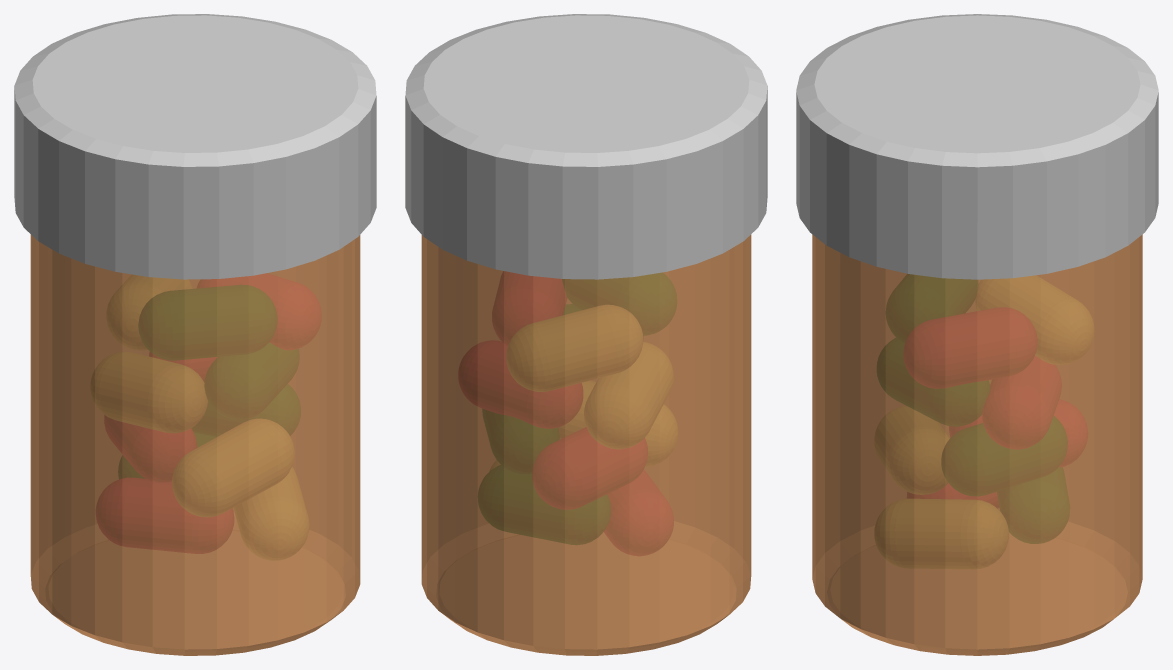
Rendered from PillsGravity.fbx.
3 views of the same model, side by side, from view 1: azimuth 30°, elevation 25°; view 2: azimuth 150°, elevation 25°; view 3: azimuth 270°, elevation 25° (orthographic).
Visible parts, largest first — view 1: PillBottleG; view 2: PillBottleG; view 3: PillBottleG.
Boxes of the visible parts, x1=… form: PillBottleG: x1=14, y1=14, x2=376, y2=655; PillBottleG: x1=405, y1=14, x2=767, y2=655; PillBottleG: x1=796, y1=14, x2=1158, y2=655.
Size of the model in its own units: 357 by 552 by 357.
